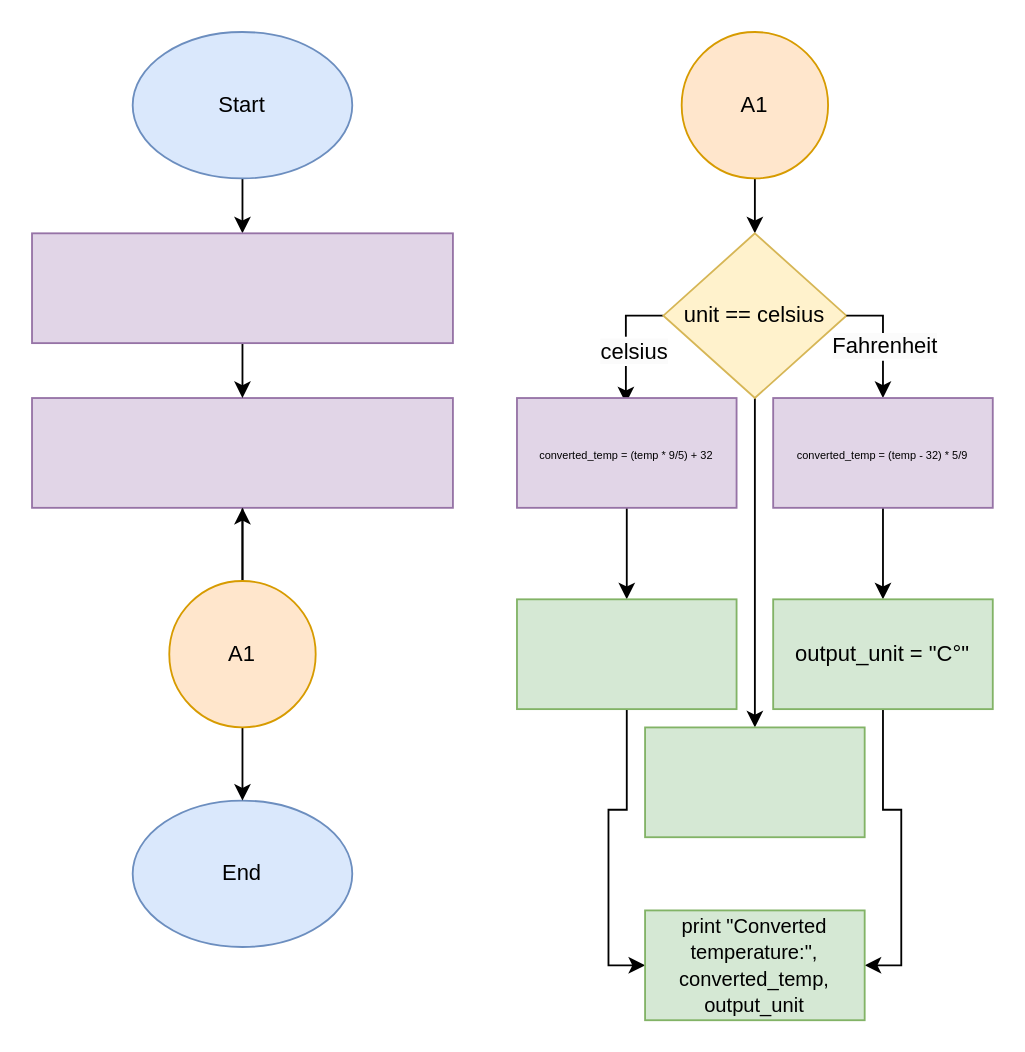
The diagram is 1025 pixels wide and 1052 high, and some of its shapes have lost their labels. Each missing label, with the centre of its shape:
output_unit = "F°": point (626, 653)
print (Invalid unit!): point (754, 781)
temp = input( whta's your temp ? ): point (241, 287)
unit = input(Celsius or Fahrenheit): point (241, 452)
